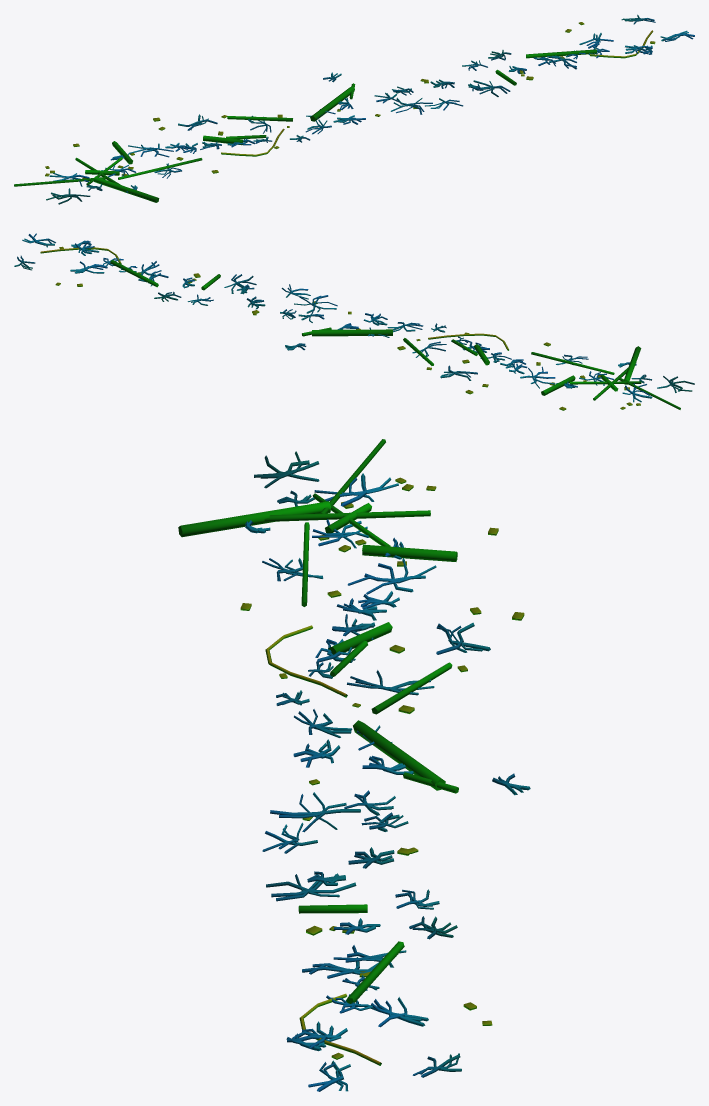
The model's file is tideline_wrack.glb.
The picture shows the model from 3 angles, top to bottom: view 1: azimuth 30°, elevation 25°; view 2: azimuth 150°, elevation 25°; view 3: azimuth 270°, elevation 25°; orthographic projection. The views are drawn at different scales.
Parts seen in each view (by area): view 1: tideline_wrack; view 2: tideline_wrack; view 3: tideline_wrack.
Part boxes in pixels (x1,y1,x2,y2): tideline_wrack: (14, 14, 694, 204); tideline_wrack: (14, 233, 694, 410); tideline_wrack: (178, 439, 530, 1091).
Size of what is drawn, in the model's own units: 8.42 by 0.0697 by 1.93.
